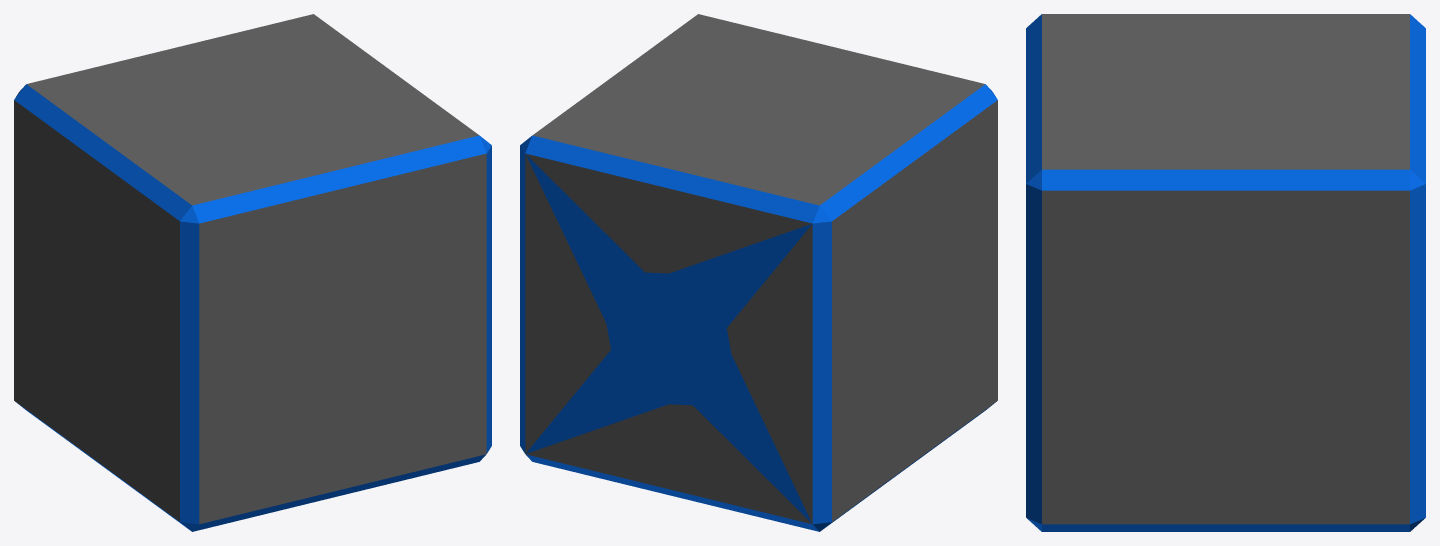
The model's file is non_directional_cube.fbx.
3 renders of one model, left to right at view 1: azimuth 30°, elevation 25°; view 2: azimuth 150°, elevation 25°; view 3: azimuth 270°, elevation 25°, orthographic. The views are drawn at different scales.
Parts seen in each view (by area): view 1: Cube; view 2: Cube; view 3: Cube.
Part boxes in pixels (x1=…): Cube: x1=14, y1=14, x2=491, y2=531; Cube: x1=520, y1=14, x2=997, y2=531; Cube: x1=1026, y1=14, x2=1425, y2=531.
Bounding box in the file's own units: 30 × 30 × 30.
